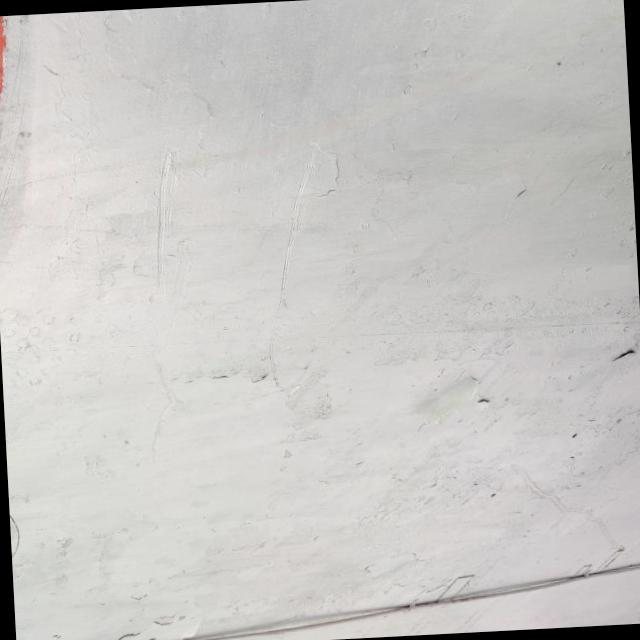scratch: (244, 138, 346, 320), (122, 131, 220, 300), (134, 342, 201, 468), (256, 323, 304, 392)
